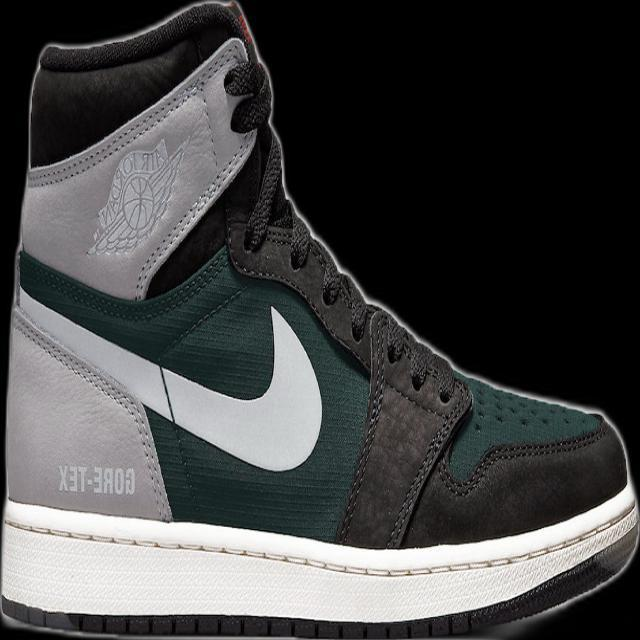J1_InsoleChar: (2, 1, 637, 637)
J1_ShoeLogo: (13, 285, 324, 473), (85, 135, 190, 257), (55, 462, 137, 497)
J1_StitchPattern: (230, 125, 472, 546), (2, 505, 637, 584), (9, 303, 174, 521), (26, 35, 251, 188), (334, 306, 470, 547), (131, 129, 259, 300), (2, 596, 473, 637), (438, 417, 611, 498), (382, 397, 471, 549), (334, 308, 390, 543), (241, 122, 285, 253)
